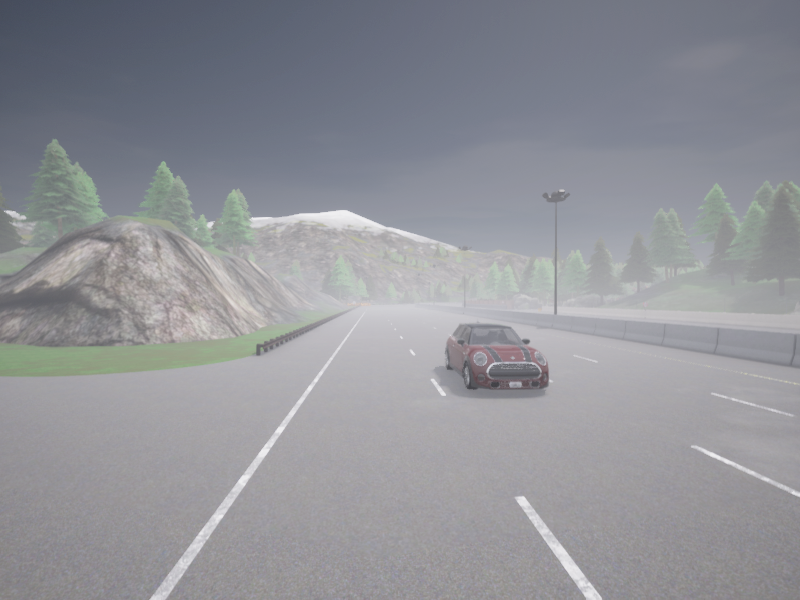vehicle: (445, 319, 548, 389)
